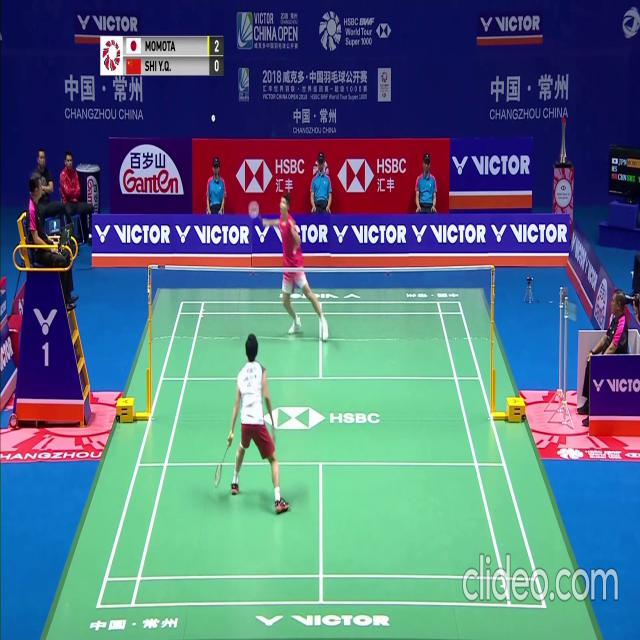Shuttlecock: (211, 113, 216, 120)
